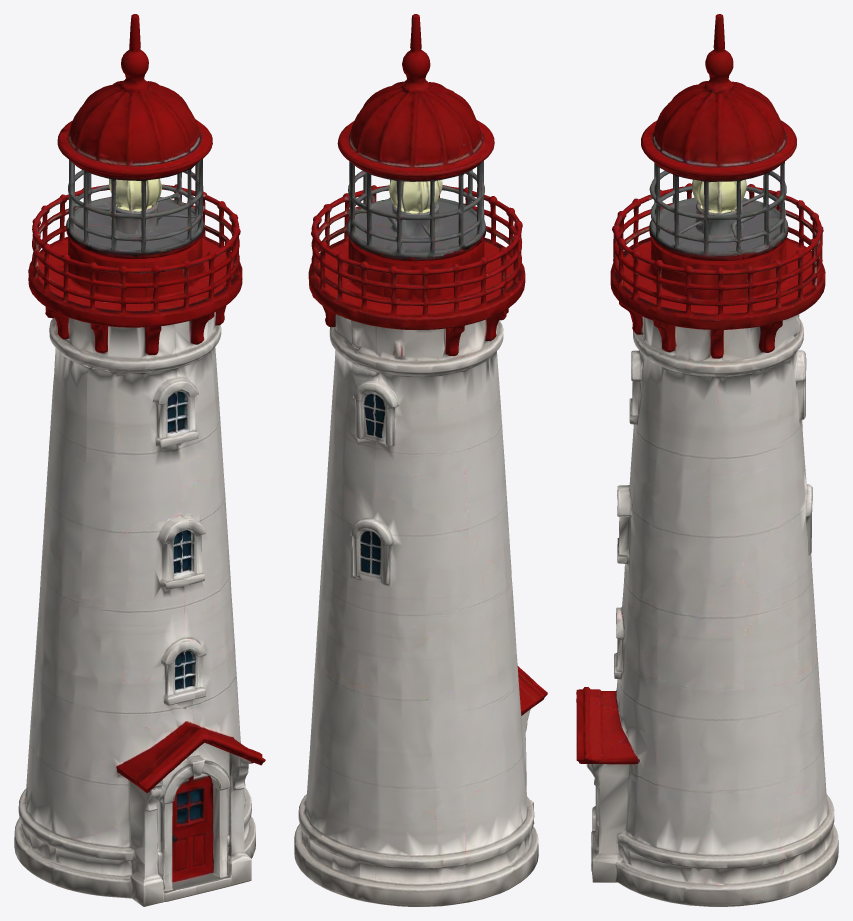
3 renders of one model, left to right at view 1: azimuth 30°, elevation 25°; view 2: azimuth 150°, elevation 25°; view 3: azimuth 270°, elevation 25°, orthographic.
Parts seen in each view (by area): view 1: mesh_node; view 2: mesh_node; view 3: mesh_node.
Boxes of the visible parts, bbox=[...] form: mesh_node: bbox=[14, 14, 265, 906]; mesh_node: bbox=[294, 14, 547, 906]; mesh_node: bbox=[576, 14, 838, 906].
Bounding box in the file's own units: 0.5023 × 1.9 × 0.5375.
Materials: 1 (1 with a texture image).
